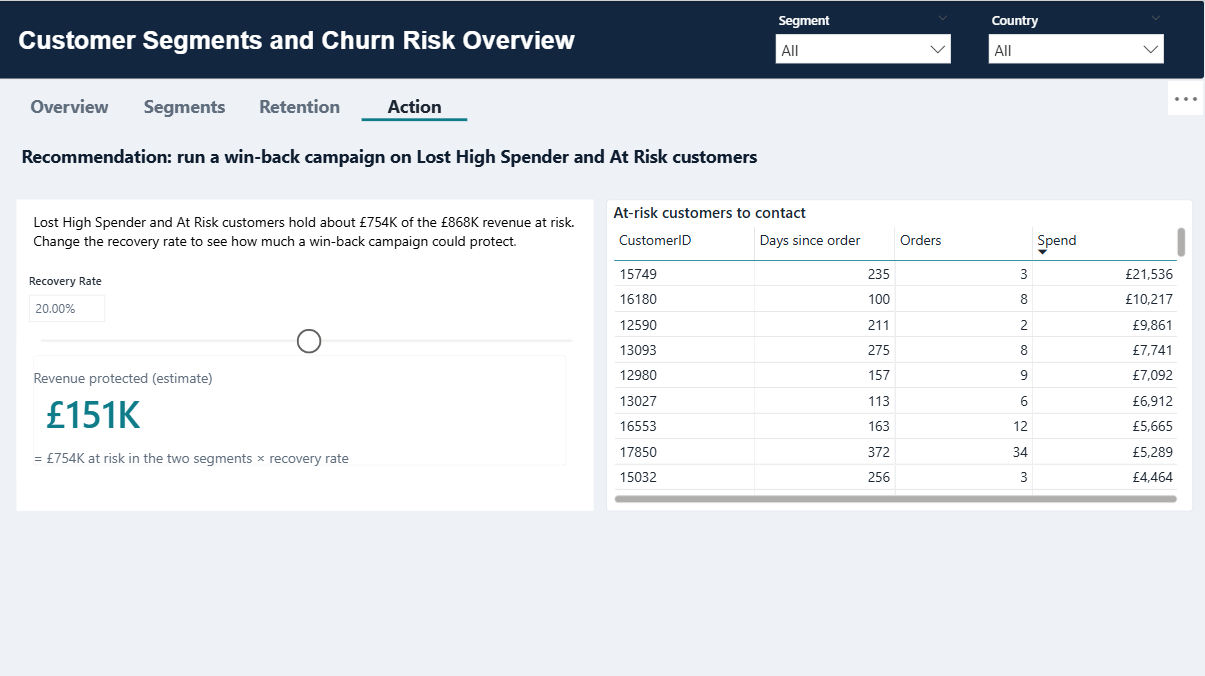

The page's visual inventory and layout, read from the dashboard file:
{"tool":"powerbi","page":{"name":"Action","canvas":[1280,720],"ordinal":3},"visuals":[{"type":"textbox","box":[0,0,1280.8,84.2],"z":0},{"type":"slicer","fields":{"Values":["rfm_segments_202609240918_SKU.customer_segment"]},"box":[816,6.4,205.2,70],"z":1000},{"type":"slicer","fields":{"Values":["rfm_segments_202609240918_SKU.Country"]},"box":[1041.9,6.4,205.2,70],"z":2000},{"type":"pageNavigator","box":[20.7,95,480.4,33.4],"z":3000},{"type":"textbox","box":[20.9,147.9,828.2,41.8],"z":4000},{"type":"tableEx","title":"At-risk customers to contact","fields":{"Values":["rfm_segments_202609240918_SKU.CustomerID","rfm_segments_202609240918_SKU.recency","rfm_segments_202609240918_SKU.frequency","rfm_segments_202609240918_SKU.monetary"]},"box":[645.5,212.3,622.9,330.6],"z":5000},{"type":"textbox","box":[21.3,212.3,612,330],"z":6000},{"type":"cardVisual","fields":{"Data":["Parameter.Revenue Protected"]},"box":[20.9,360,600.3,151.4],"z":7000},{"type":"slicer","fields":{"Values":["Recovery Rate.Recovery Rate"]},"box":[21.5,285,612.5,104.4],"z":8000},{"type":"textbox","box":[33.1,385,612.5,38.3],"z":9000},{"type":"textbox","box":[33.6,220,600.3,149.6],"z":10000},{"type":"textbox","box":[33.1,470,612.5,38.3],"z":11000}]}

Visuals, with their boxes in screenshot pixels (x1, y1, x2, y2), scaled from the page's 1280x720 canvas onto the 1205x676 screenshot:
textbox: select_region(0, 0, 1204, 79)
slicer - rfm_segments_202609240918_SKU.customer_segment: select_region(768, 6, 961, 72)
slicer - rfm_segments_202609240918_SKU.Country: select_region(981, 6, 1174, 72)
pageNavigator: select_region(19, 89, 472, 121)
textbox: select_region(20, 139, 799, 178)
"At-risk customers to contact" tableEx: select_region(608, 199, 1194, 510)
textbox: select_region(20, 199, 596, 509)
cardVisual - Parameter.Revenue Protected: select_region(20, 338, 585, 480)
slicer - Recovery Rate.Recovery Rate: select_region(20, 268, 597, 366)
textbox: select_region(31, 361, 608, 397)
textbox: select_region(32, 207, 597, 347)
textbox: select_region(31, 441, 608, 477)
